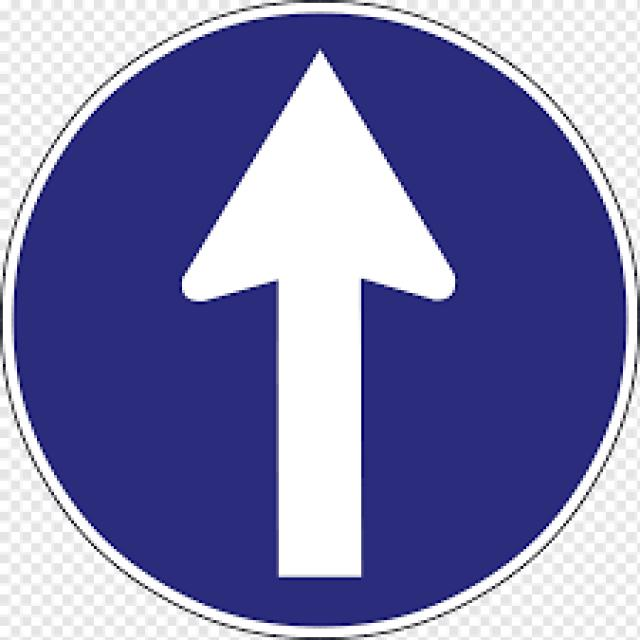STRAIGHT: (6, 3, 631, 631)
